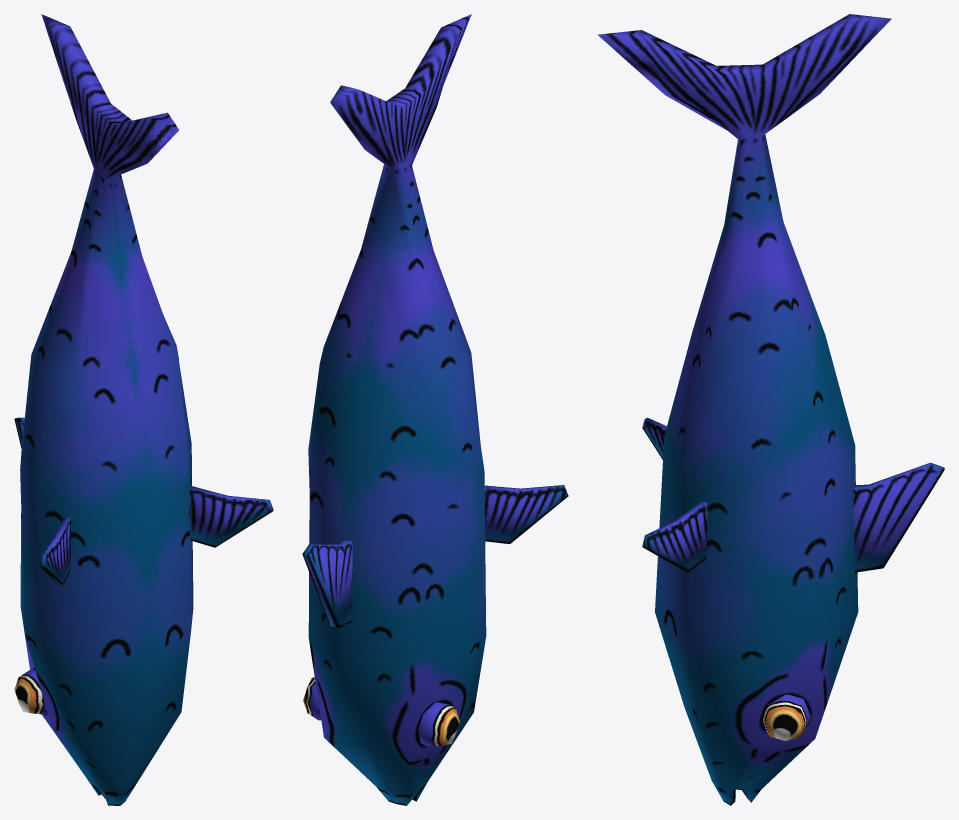
Rendered from Fish.fbx.
The picture shows the model from 3 angles, left to right: view 1: azimuth 30°, elevation 25°; view 2: azimuth 150°, elevation 25°; view 3: azimuth 270°, elevation 25°; orthographic projection. The views are drawn at different scales.
Parts seen in each view (by area): view 1: Fish; view 2: Fish; view 3: Fish.
Boxes of the visible parts, x1,y1,x2,y2 form: Fish: (14, 14, 273, 805); Fish: (302, 14, 568, 805); Fish: (597, 14, 944, 805).
Size of the model in its own units: 4.06 by 12.22 by 4.91.
